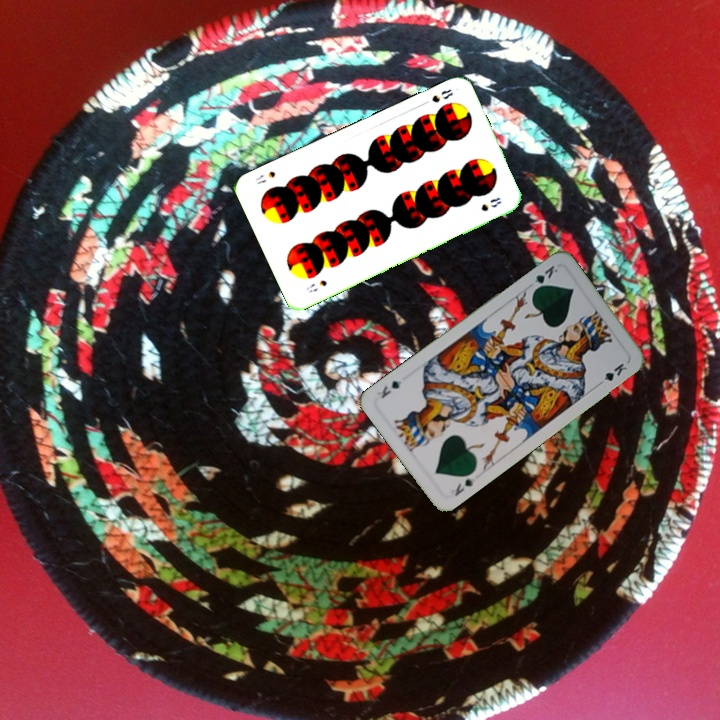GK: (529, 261, 561, 294), (447, 474, 478, 499)
S8: (428, 85, 456, 105), (302, 276, 330, 295)
